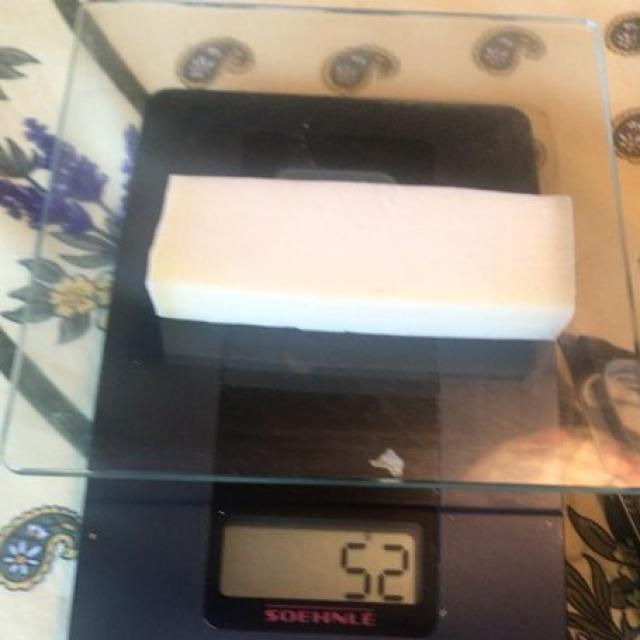gruyere: (151, 178, 572, 327)
